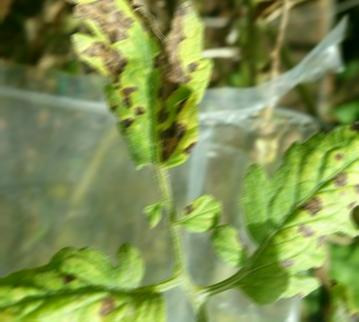Tomato Septoria leaf spot: (215, 113, 359, 310), (56, 0, 211, 177), (0, 243, 173, 322)
